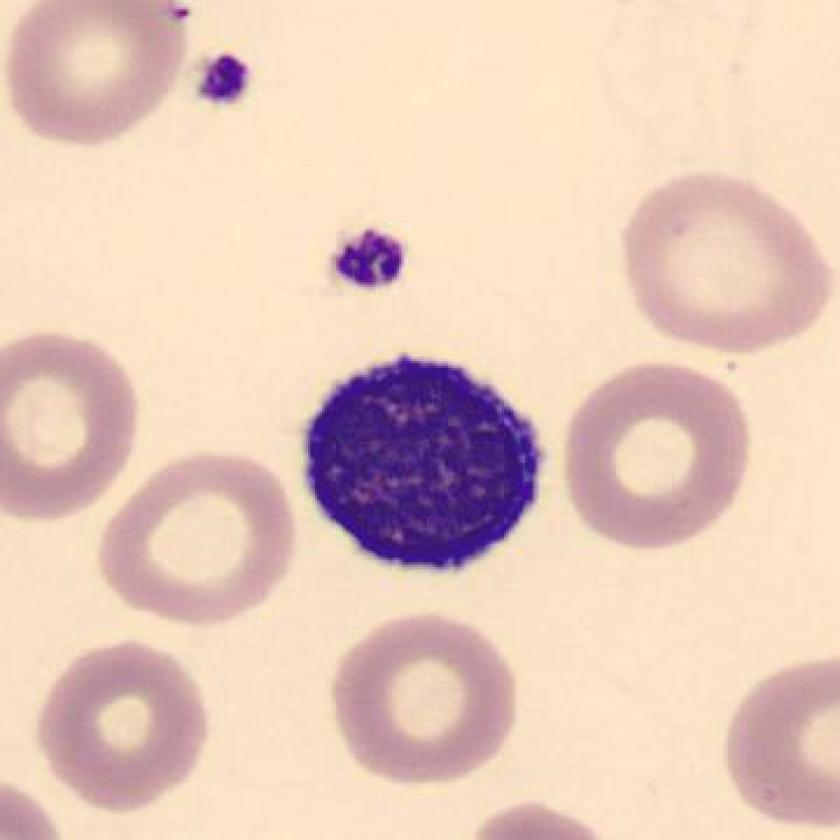lymphocyte: (284, 334, 557, 582)
